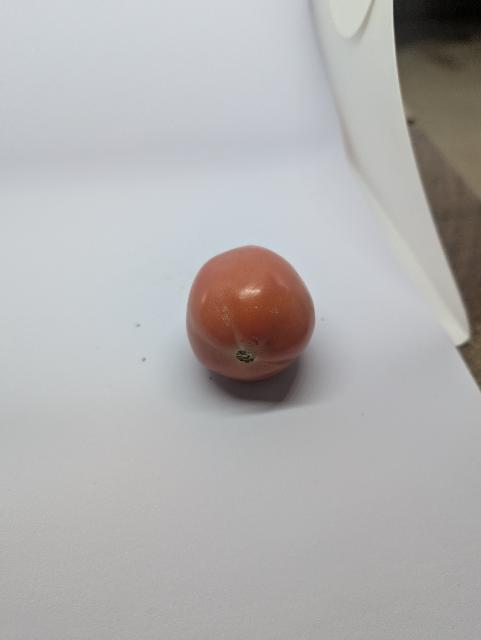red: (183, 243, 319, 382)
